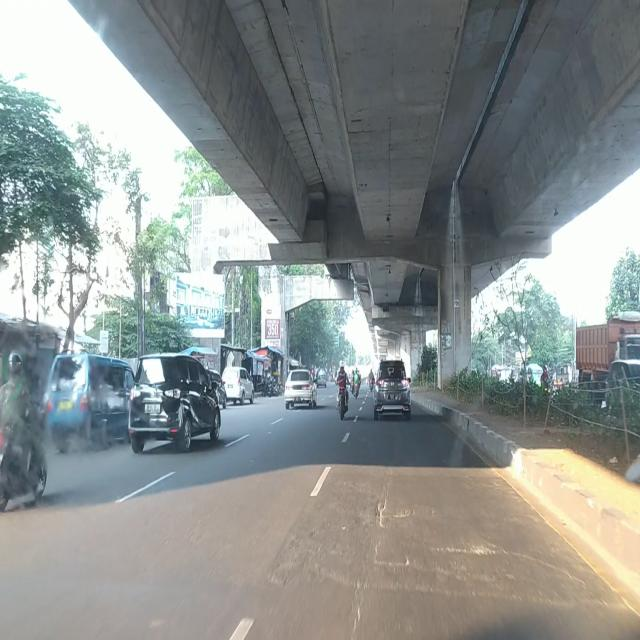Drain Hole: (346, 482, 417, 576)
